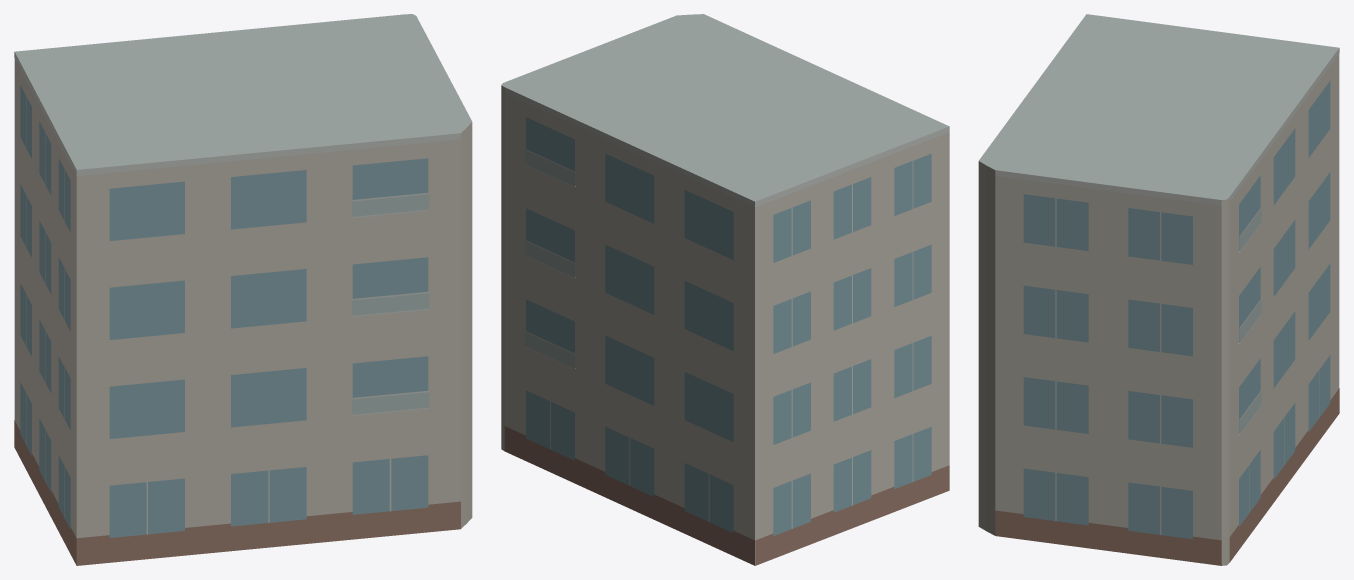
File: survey-upis-33006225.glb
3 views of the same model, side by side, from view 1: azimuth 30°, elevation 25°; view 2: azimuth 150°, elevation 25°; view 3: azimuth 270°, elevation 25° (orthographic). The views are drawn at different scales.
Visible parts, largest first — view 1: survey-upis-33006225.tmp; view 2: survey-upis-33006225.tmp; view 3: survey-upis-33006225.tmp.
Part boxes in pixels (x1,y1,x2,y2): survey-upis-33006225.tmp: [14, 14, 472, 565]; survey-upis-33006225.tmp: [501, 14, 949, 565]; survey-upis-33006225.tmp: [978, 14, 1339, 565].
Bounding box in the file's own units: 17.03 × 15.6 × 13.95.
